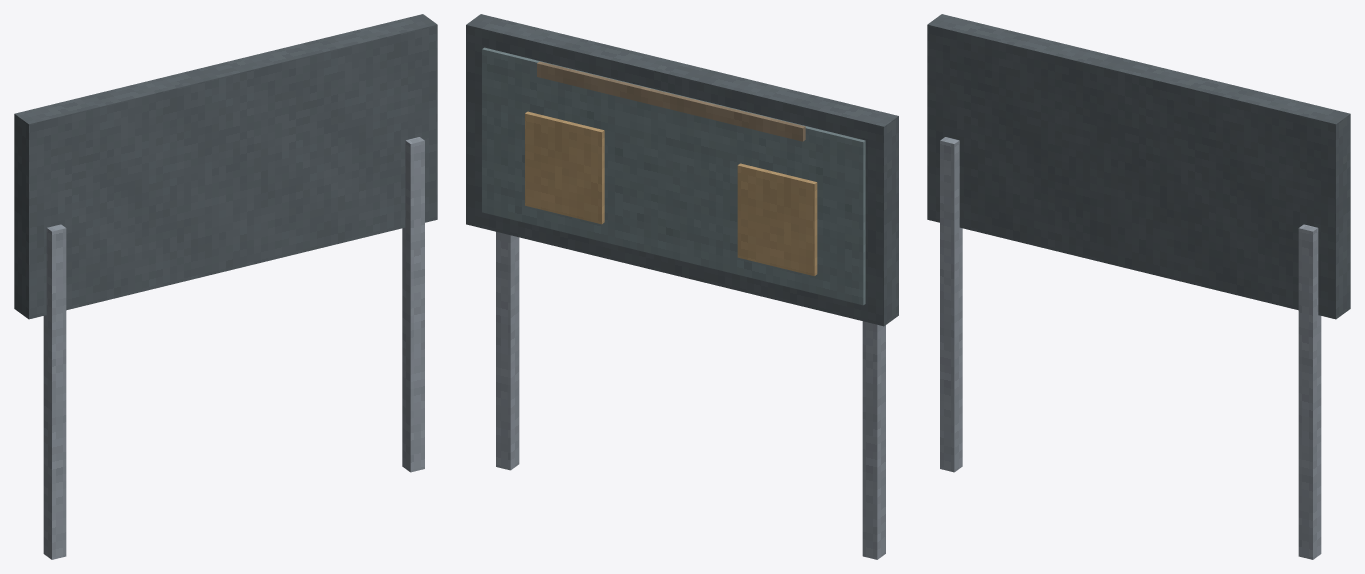
The model's file is level_blockout_school_scoreboard.glb.
3 renders of one model, left to right at view 1: azimuth 30°, elevation 25°; view 2: azimuth 150°, elevation 25°; view 3: azimuth 330°, elevation 25°, orthographic. The views are drawn at different scales.
Parts seen in each view (by area): view 1: level_blockout_school_scoreboard; view 2: level_blockout_school_scoreboard; view 3: level_blockout_school_scoreboard.
Boxes of the visible parts, x1,y1,x2,y2 form: level_blockout_school_scoreboard: (14, 14, 437, 559); level_blockout_school_scoreboard: (466, 14, 898, 559); level_blockout_school_scoreboard: (927, 14, 1350, 559).
Size of the model in its own units: 2.28 by 2.32 by 0.241.
5 materials, 5 textured.
